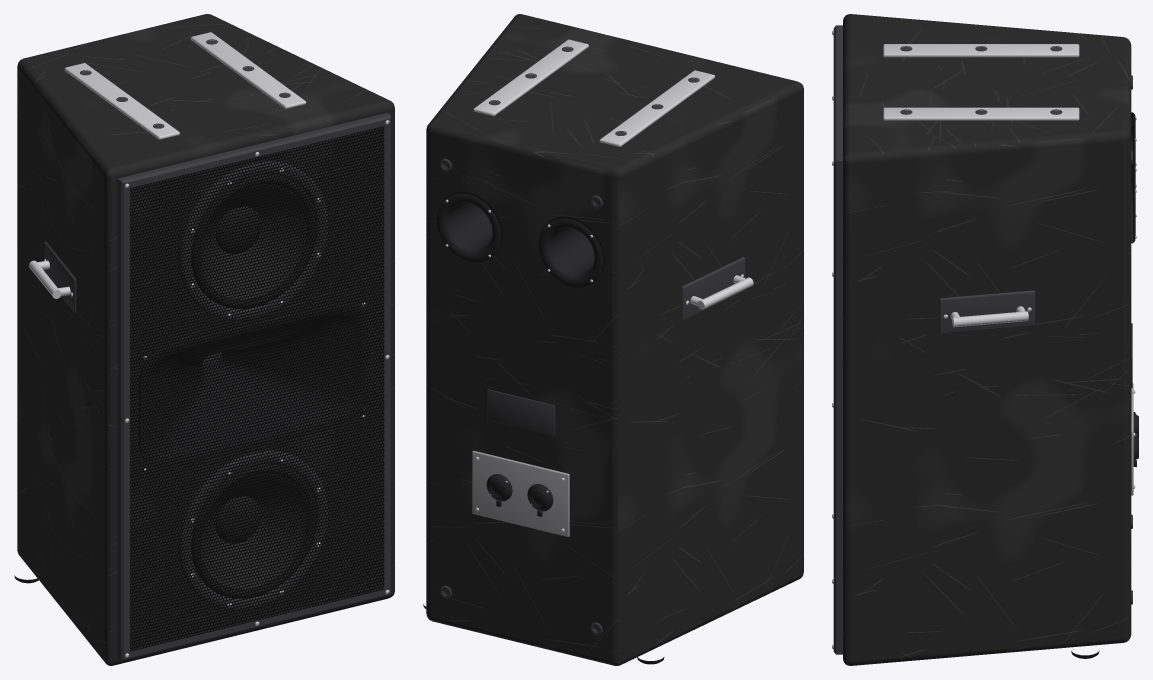
File: club_speaker_pa212.glb
3 renders of one model, left to right at view 1: azimuth 30°, elevation 25°; view 2: azimuth 150°, elevation 25°; view 3: azimuth 270°, elevation 25°, orthographic. The views are drawn at different scales.
Parts seen in each view (by area): view 1: AYR212_Cabinet, AYR212_Grille, AYR212_MetalDark, AYR212_Horn, AYR212_Cone, AYR212_Steel, AYR212_Rubber, AYR212_DustCap; view 2: AYR212_Cabinet, AYR212_Horn, AYR212_Steel, AYR212_Panel, AYR212_MetalDark; view 3: AYR212_Cabinet, AYR212_MetalDark, AYR212_Steel, AYR212_Horn.
Boxes of the visible parts, left/top/right/bottom form: AYR212_Cabinet: left=17, top=14, right=394, bottom=665; AYR212_Grille: left=130, top=126, right=384, bottom=651; AYR212_MetalDark: left=44, top=39, right=390, bottom=660; AYR212_Horn: left=138, top=305, right=368, bottom=467; AYR212_Cone: left=200, top=184, right=307, bottom=588; AYR212_Steel: left=29, top=32, right=389, bottom=657; AYR212_Rubber: left=14, top=174, right=316, bottom=598; AYR212_DustCap: left=215, top=206, right=260, bottom=543; AYR212_Cabinet: left=426, top=14, right=803, bottom=665; AYR212_Horn: left=436, top=191, right=604, bottom=516; AYR212_Steel: left=445, top=39, right=753, bottom=532; AYR212_Panel: left=472, top=450, right=569, bottom=536; AYR212_MetalDark: left=439, top=46, right=745, bottom=635; AYR212_Cabinet: left=843, top=14, right=1131, bottom=665; AYR212_MetalDark: left=833, top=25, right=1132, bottom=654; AYR212_Steel: left=832, top=30, right=1136, bottom=649; AYR212_Horn: left=1131, top=112, right=1138, bottom=466.
Bounding box in the file's own units: 0.6014 × 0.9946 × 0.5317.
Materials: 9 (2 with a texture image).
